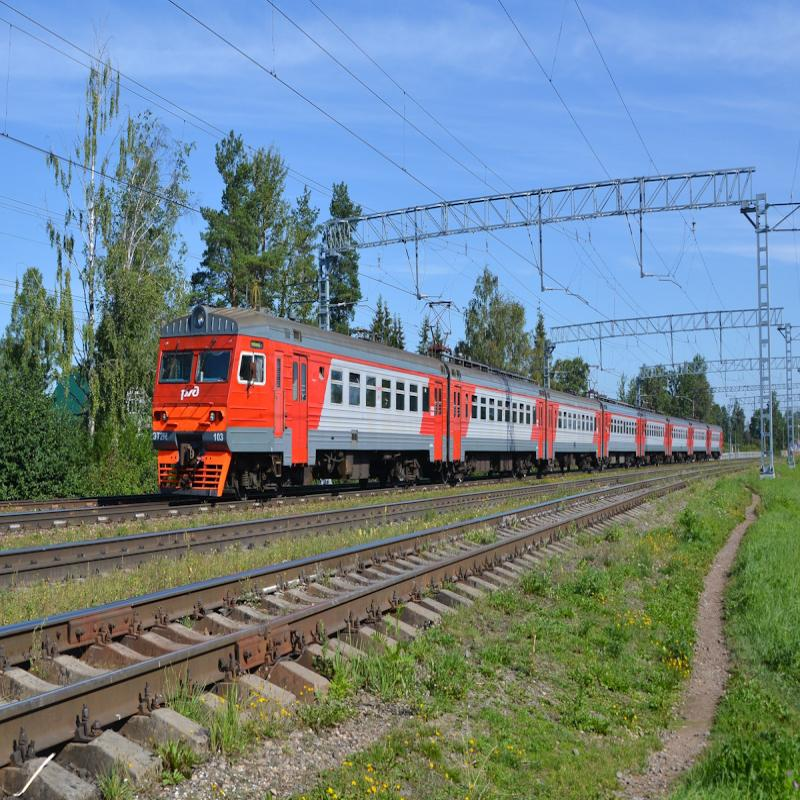train: (142, 270, 457, 517), (440, 341, 551, 491), (539, 395, 611, 470), (594, 403, 650, 464)
